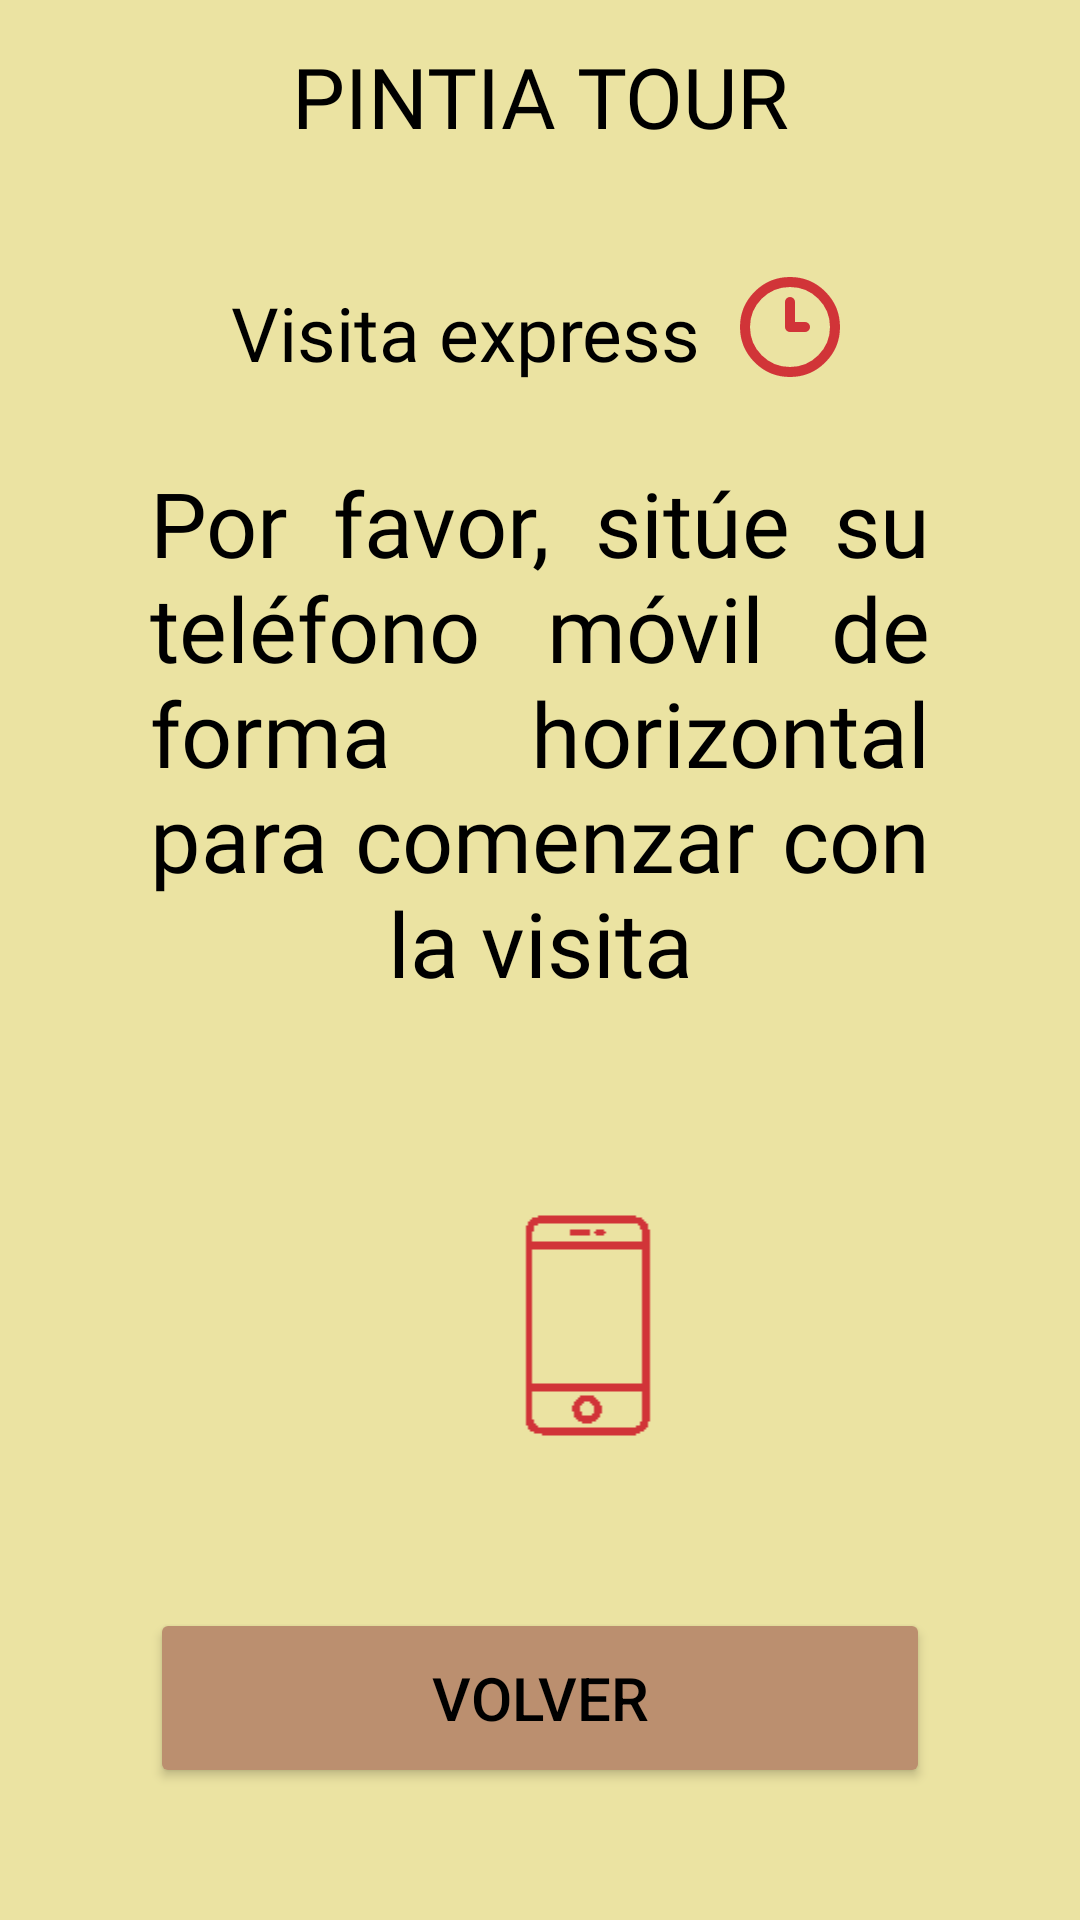

Icons on this 1080w x 1920h Android screen, each with its box as (x1, y1, x2, y2):
clock three: (740, 277, 840, 377)
mobile rotate anim: (525, 1215, 651, 1436)
